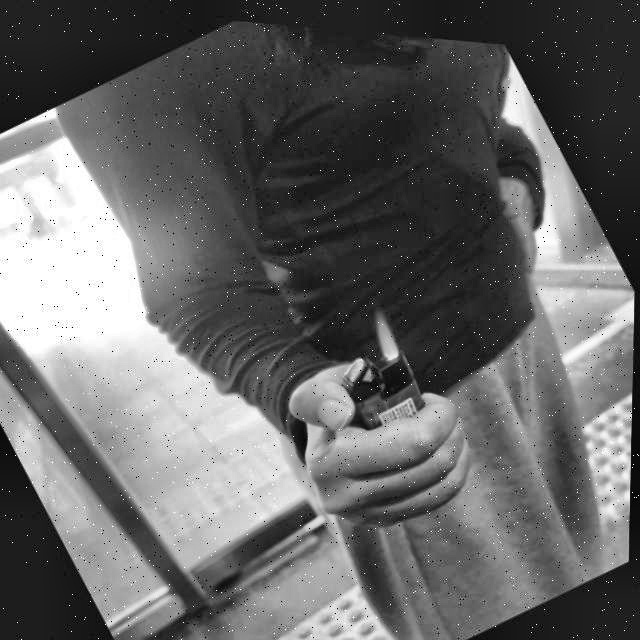Fire: (365, 307, 404, 354)
